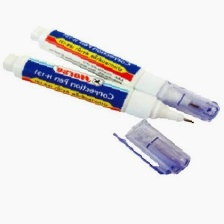correction_fluid: (29, 26, 220, 121), (1, 53, 196, 126)
